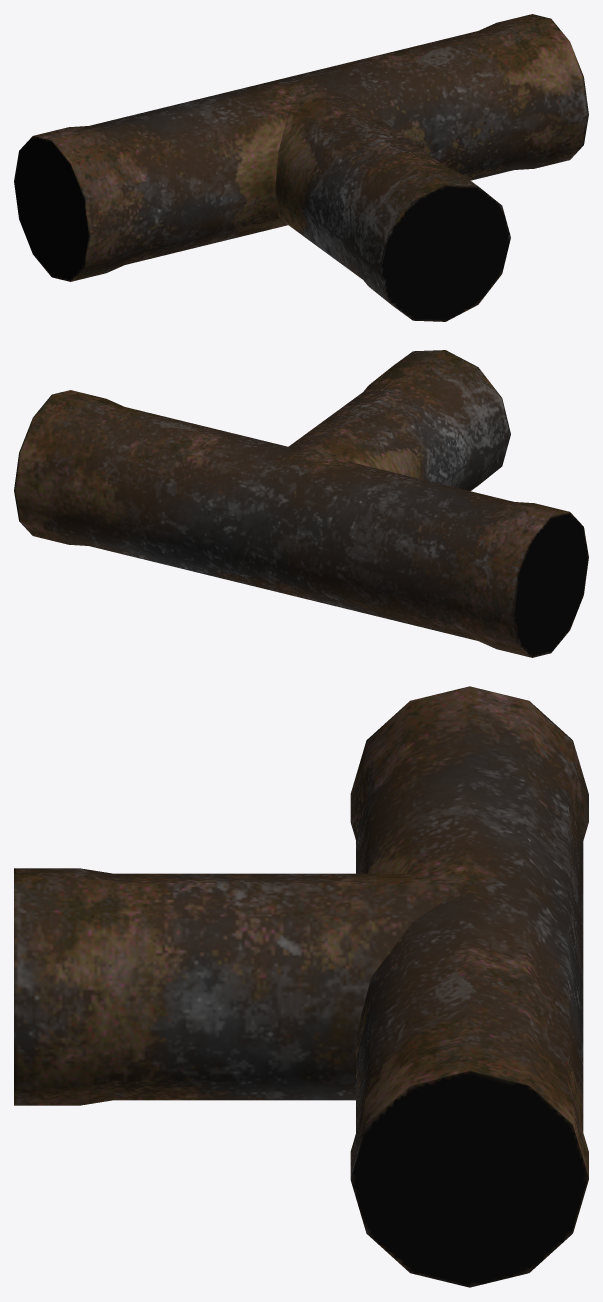
Rendered from NM_BigTube_03.fbx.
3 views of the same model, one above another, from view 1: azimuth 30°, elevation 25°; view 2: azimuth 150°, elevation 25°; view 3: azimuth 270°, elevation 25° (orthographic). The views are drawn at different scales.
Visible parts, largest first — view 1: BigTube_04_low003; view 2: BigTube_04_low003; view 3: BigTube_04_low003.
Boxes of the visible parts, bbox=[...] form: BigTube_04_low003: bbox=[14, 14, 588, 321]; BigTube_04_low003: bbox=[14, 350, 588, 657]; BigTube_04_low003: bbox=[14, 686, 588, 1287].
Bounding box in the file's own units: 117 × 30.54 × 73.62.
